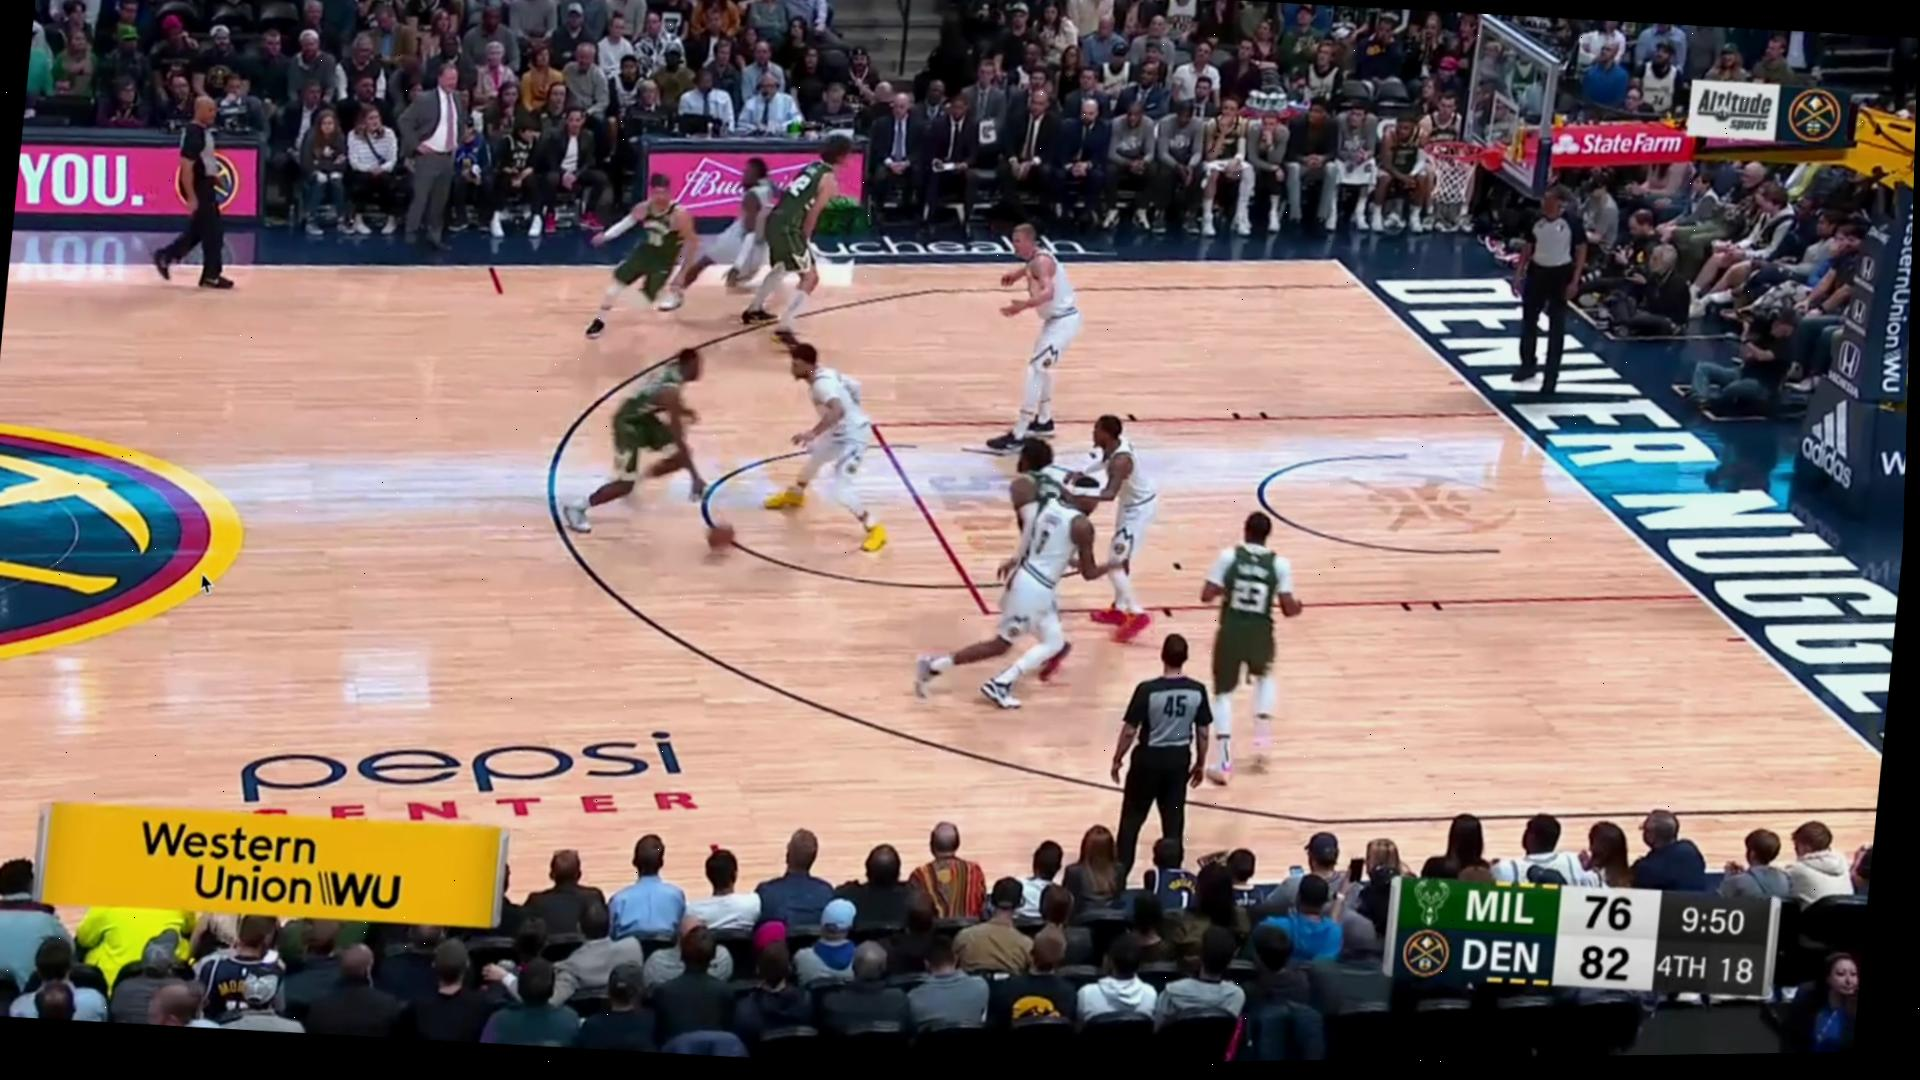no_foul: (975, 421, 1109, 711)
